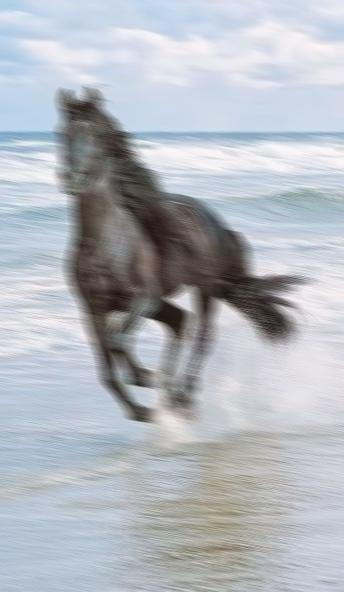horse: (56, 84, 317, 425)
